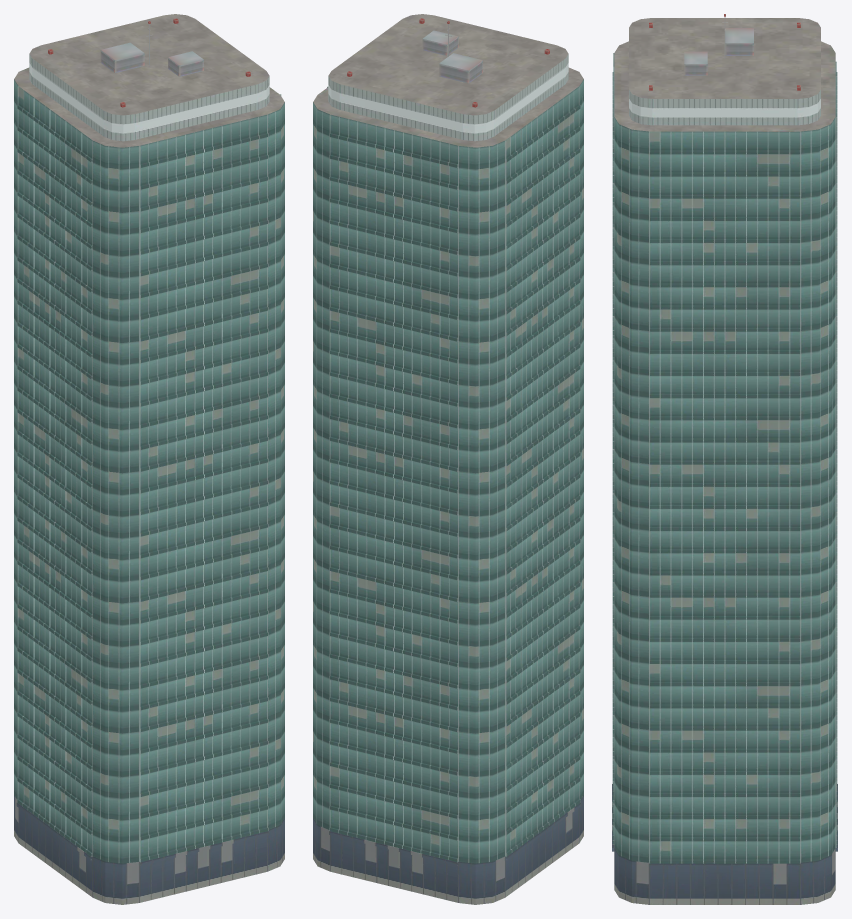
The model's file is tokyo_glasstower_b.glb.
3 renders of one model, left to right at view 1: azimuth 30°, elevation 25°; view 2: azimuth 150°, elevation 25°; view 3: azimuth 270°, elevation 25°, orthographic. The views are drawn at different scales.
Visible parts, largest first — view 1: tokyo_glasstower_b; view 2: tokyo_glasstower_b; view 3: tokyo_glasstower_b.
Boxes of the visible parts, left/top/right/bottom form: tokyo_glasstower_b: left=14, top=14, right=284, bottom=904; tokyo_glasstower_b: left=313, top=14, right=583, bottom=904; tokyo_glasstower_b: left=612, top=14, right=837, bottom=904.
Size of the model in its own units: 38.8 by 160 by 38.8.
1 material, 1 textured.
